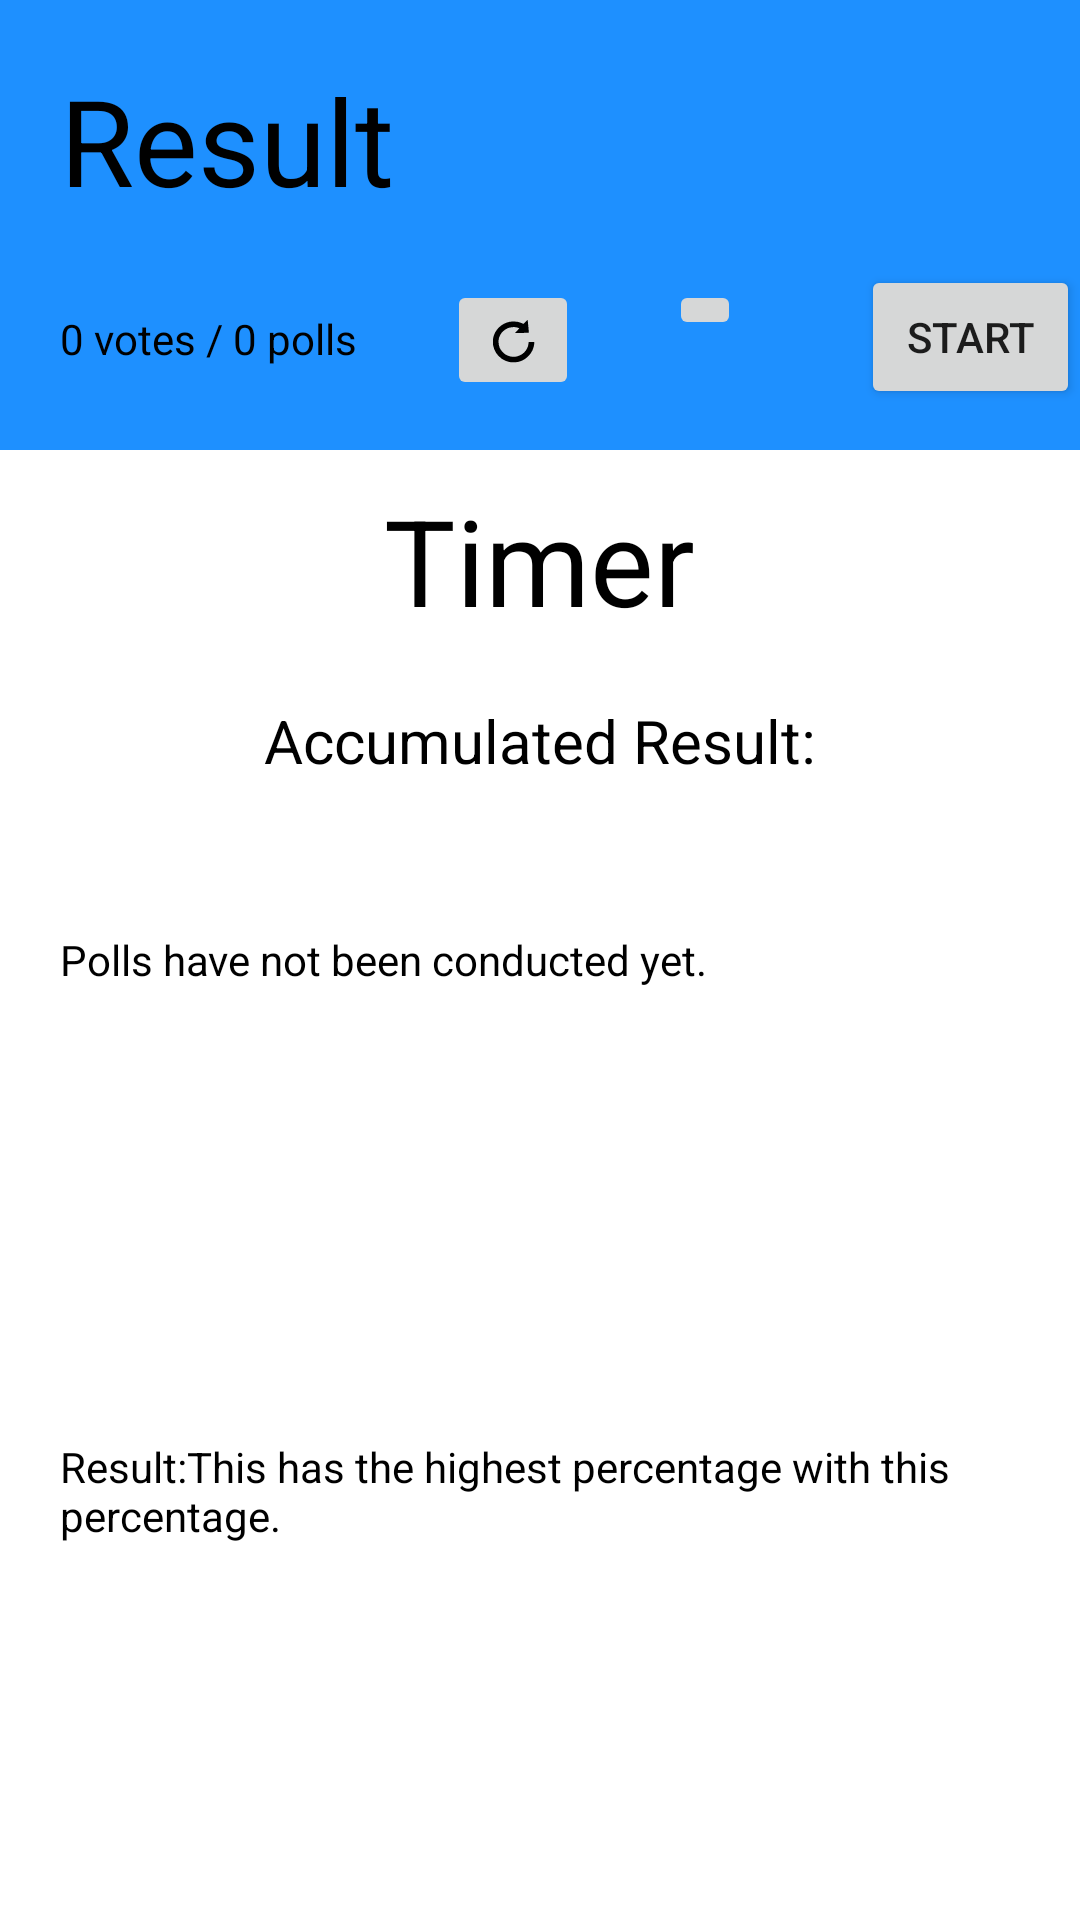

Screen size 1080w x 1920h. Icon name, then its box in pixels as (x1, y1, x2, y2):
reload: (459, 298, 567, 382)
